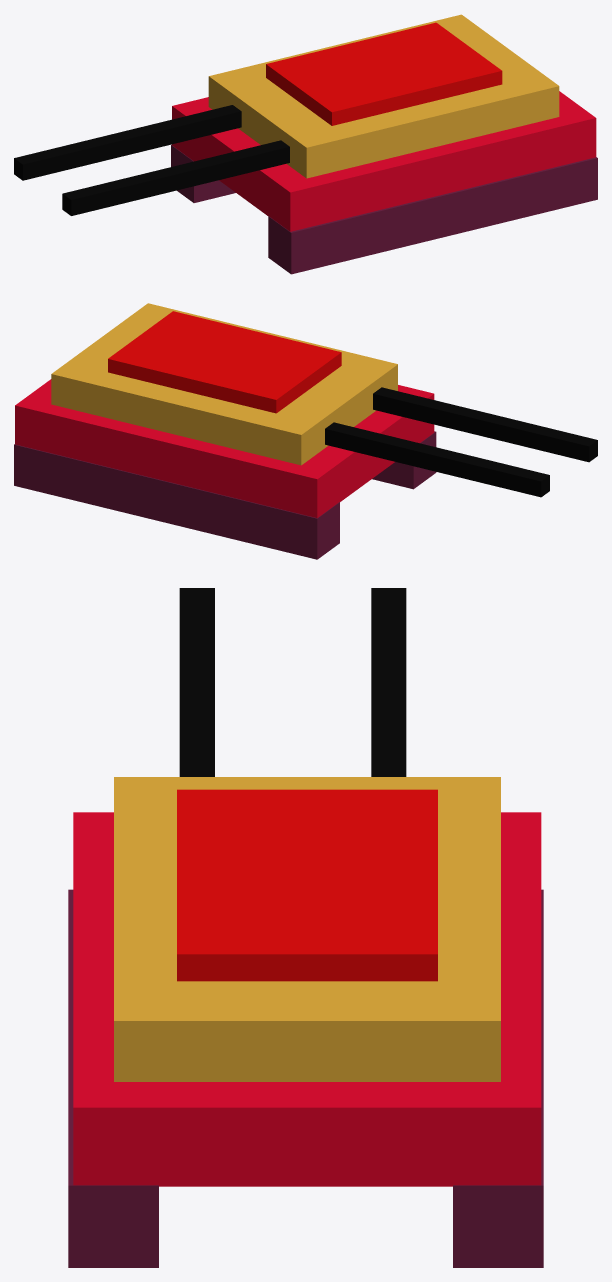
The model's file is redtankdouble.glb.
3 views of the same model, one above another, from view 1: azimuth 30°, elevation 25°; view 2: azimuth 150°, elevation 25°; view 3: azimuth 270°, elevation 25° (orthographic). The views are drawn at different scales.
Visible parts, largest first — view 1: Cube, Cube.005, Cube.007, Cube.002, Cube.004, Cube.003, Cube.001; view 2: Cube.005, Cube, Cube.007, Cube.001, Cube.003, Cube.004, Cube.002; view 3: Cube.005, Cube, Cube.007, Cube.002, Cube.001, Cube.003, Cube.004.
Part boxes in pixels (box(x1,y1,x2,y2)): Cube: box(208, 14, 559, 178); Cube.005: box(172, 91, 596, 231); Cube.007: box(266, 22, 502, 125); Cube.002: box(268, 157, 597, 274); Cube.004: box(62, 140, 289, 215); Cube.003: box(14, 105, 241, 180); Cube.001: box(171, 145, 235, 202); Cube.005: box(15, 379, 434, 517); Cube: box(51, 303, 397, 465); Cube.007: box(108, 311, 341, 413); Cube.001: box(14, 444, 339, 559); Cube.003: box(325, 422, 549, 497); Cube.004: box(373, 387, 597, 462); Cube.002: box(372, 431, 436, 489); Cube.005: box(73, 812, 541, 1186); Cube: box(114, 777, 500, 1081); Cube.007: box(177, 789, 437, 981); Cube.002: box(68, 889, 158, 1267); Cube.001: box(453, 889, 543, 1267); Cube.003: box(371, 588, 406, 776); Cube.004: box(179, 588, 214, 776).
Bounding box in the file's own units: 36.03 × 8.66 × 15.05.
